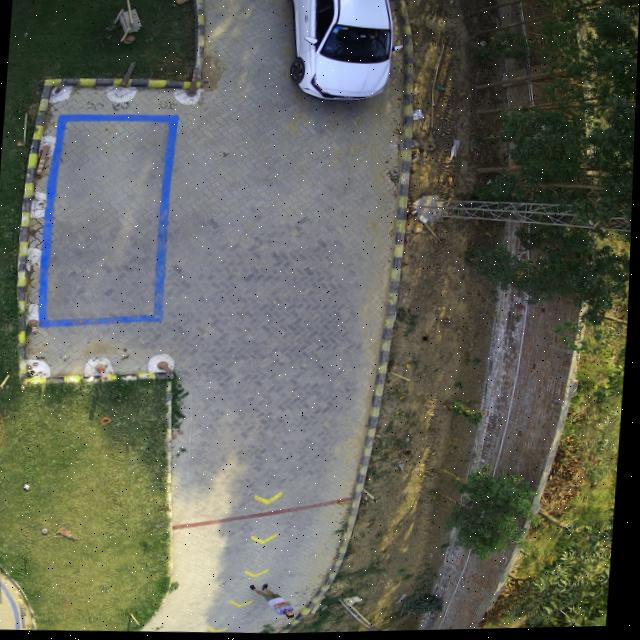car: (289, 0, 392, 103)
